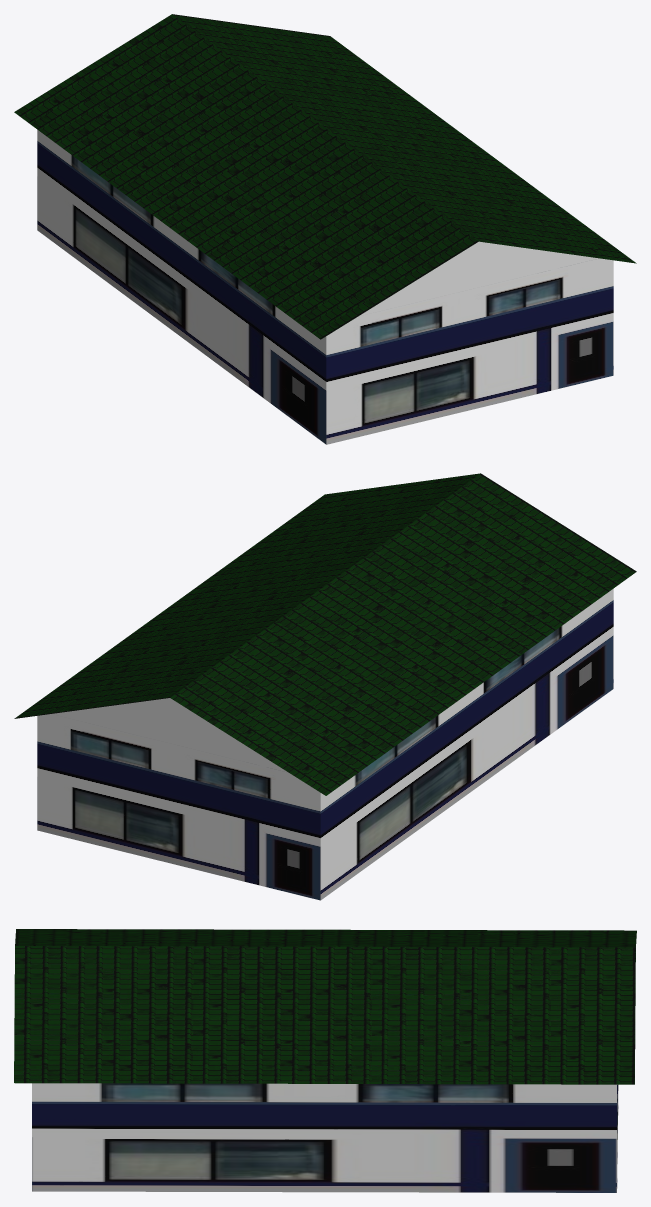
3 renders of one model, top to bottom at view 1: azimuth 30°, elevation 25°; view 2: azimuth 150°, elevation 25°; view 3: azimuth 270°, elevation 25°, orthographic.
Parts seen in each view (by area): view 1: CityEngineMaterial_13_m, CityEngineMaterial_2_m, CityEngineMaterial_3_m; view 2: CityEngineMaterial_13_m, CityEngineMaterial_2_m, CityEngineMaterial_3_m; view 3: CityEngineMaterial_13_m, CityEngineMaterial_2_m.
Part boxes in pixels (left/top/right/bottom): CityEngineMaterial_13_m: left=14, top=14, right=636, bottom=339; CityEngineMaterial_2_m: left=37, top=130, right=613, bottom=444; CityEngineMaterial_3_m: left=359, top=241, right=598, bottom=316; CityEngineMaterial_13_m: left=14, top=473, right=636, bottom=795; CityEngineMaterial_2_m: left=37, top=589, right=613, bottom=900; CityEngineMaterial_3_m: left=52, top=698, right=288, bottom=772; CityEngineMaterial_13_m: left=14, top=929, right=636, bottom=1084; CityEngineMaterial_2_m: left=32, top=1083, right=618, bottom=1192.
Bounding box in the file's own units: 20.6 × 10.83 × 34.84.
